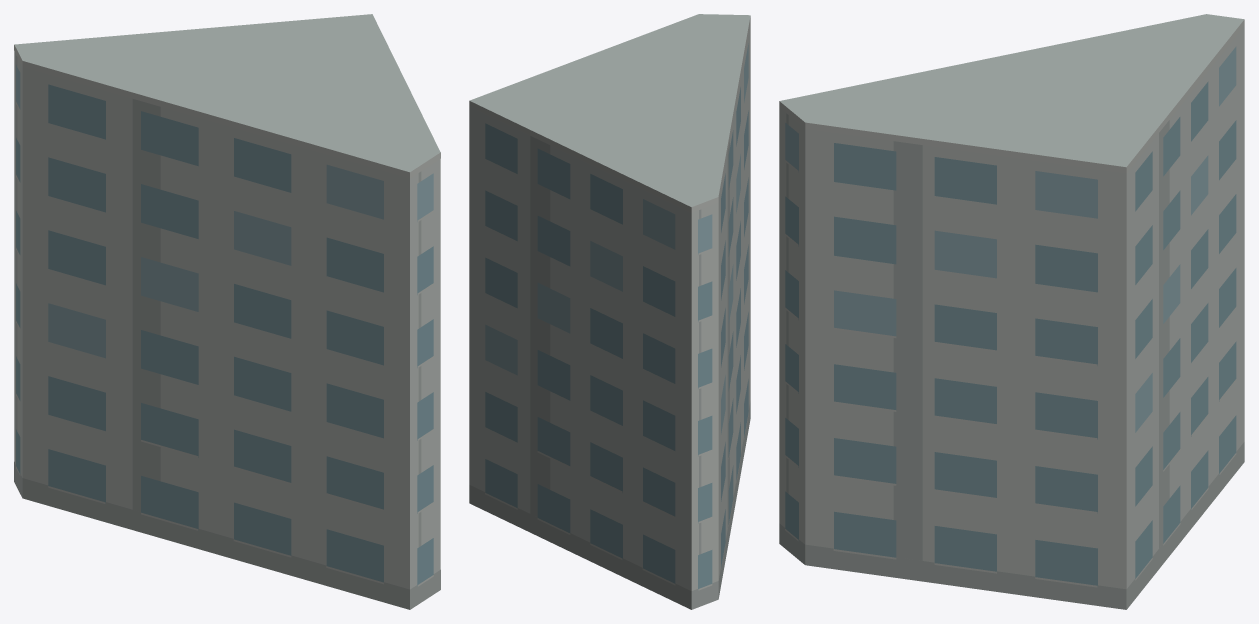
File: survey-upis-33026292.glb
3 views of the same model, side by side, from view 1: azimuth 30°, elevation 25°; view 2: azimuth 150°, elevation 25°; view 3: azimuth 270°, elevation 25° (orthographic). The views are drawn at different scales.
Visible parts, largest first — view 1: survey-upis-33026292.tmp; view 2: survey-upis-33026292.tmp; view 3: survey-upis-33026292.tmp.
Boxes of the visible parts, x1=… form: survey-upis-33026292.tmp: x1=14, y1=14, x2=440, y2=609; survey-upis-33026292.tmp: x1=469, y1=14, x2=750, y2=609; survey-upis-33026292.tmp: x1=779, y1=14, x2=1244, y2=609.
Size of the model in its own units: 12.7 by 17.1 by 16.3.
